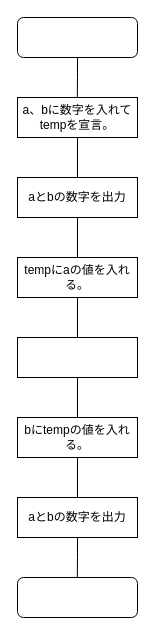
Image size: 155x635. Some labels were removed from this diagram. Each missing label, with the box of its shape:
aにbの値を入れる。: (16, 336, 138, 378)
終了: (16, 576, 138, 618)
開始: (16, 16, 138, 58)
